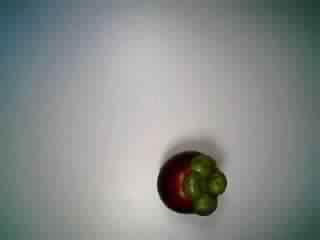mangosteen: (144, 144, 230, 218)
